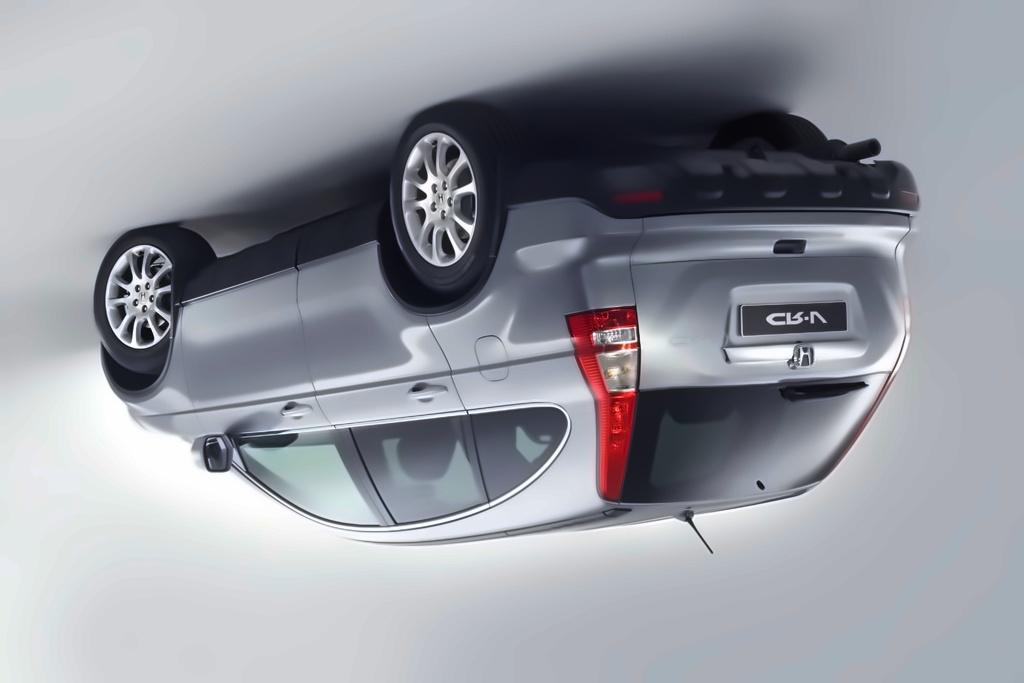Car boot: (616, 189, 922, 530)
Driver-s door - -F-R-: (167, 222, 413, 555)
Fender - -F-R-: (111, 282, 207, 468)
Fender - -R-R-: (406, 190, 615, 537)
Passenger-s door - -R-R-: (276, 205, 508, 554)
Rear bumper: (489, 148, 927, 249)
Rear light - -L-: (562, 305, 650, 511)
Side bumper - -R-: (174, 197, 392, 352)
Side mirror - -R-: (188, 431, 241, 477)
